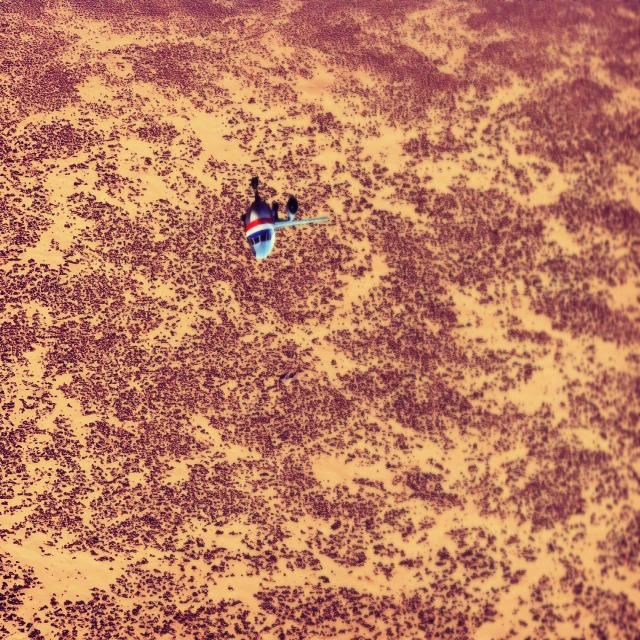airplane: (240, 175, 330, 261)
